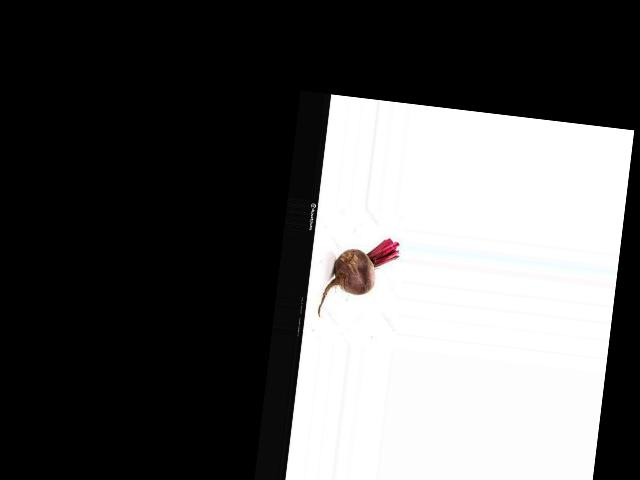beet: (317, 231, 400, 325)
